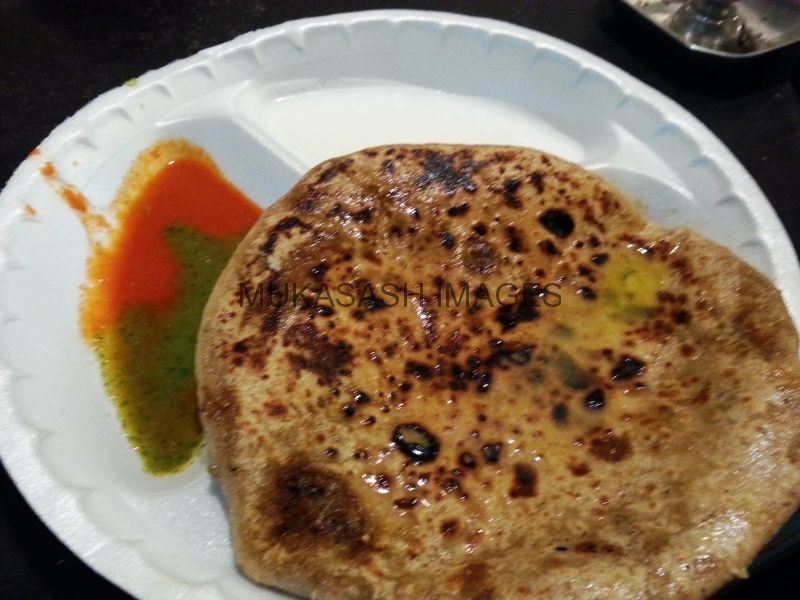aloo_paratha: (195, 148, 795, 600)
